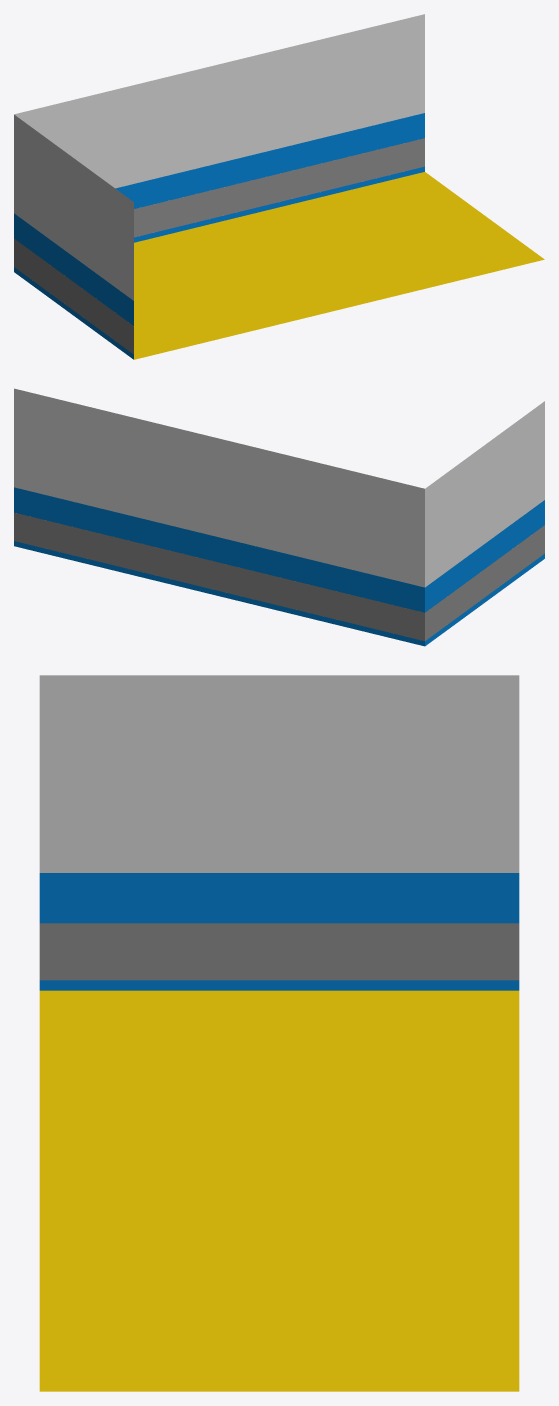
File: floor.glb
The picture shows the model from 3 angles, top to bottom: view 1: azimuth 30°, elevation 25°; view 2: azimuth 150°, elevation 25°; view 3: azimuth 270°, elevation 25°; orthographic projection. The views are drawn at different scales.
Parts seen in each view (by area): view 1: Plane; view 2: Plane; view 3: Plane.
Boxes of the visible parts, x1,y1,x2,y2 form: Plane: (14, 14, 544, 359); Plane: (14, 388, 544, 646); Plane: (39, 675, 519, 1391).
Size of the model in its own units: 27.33 by 10.02 by 13.82.
